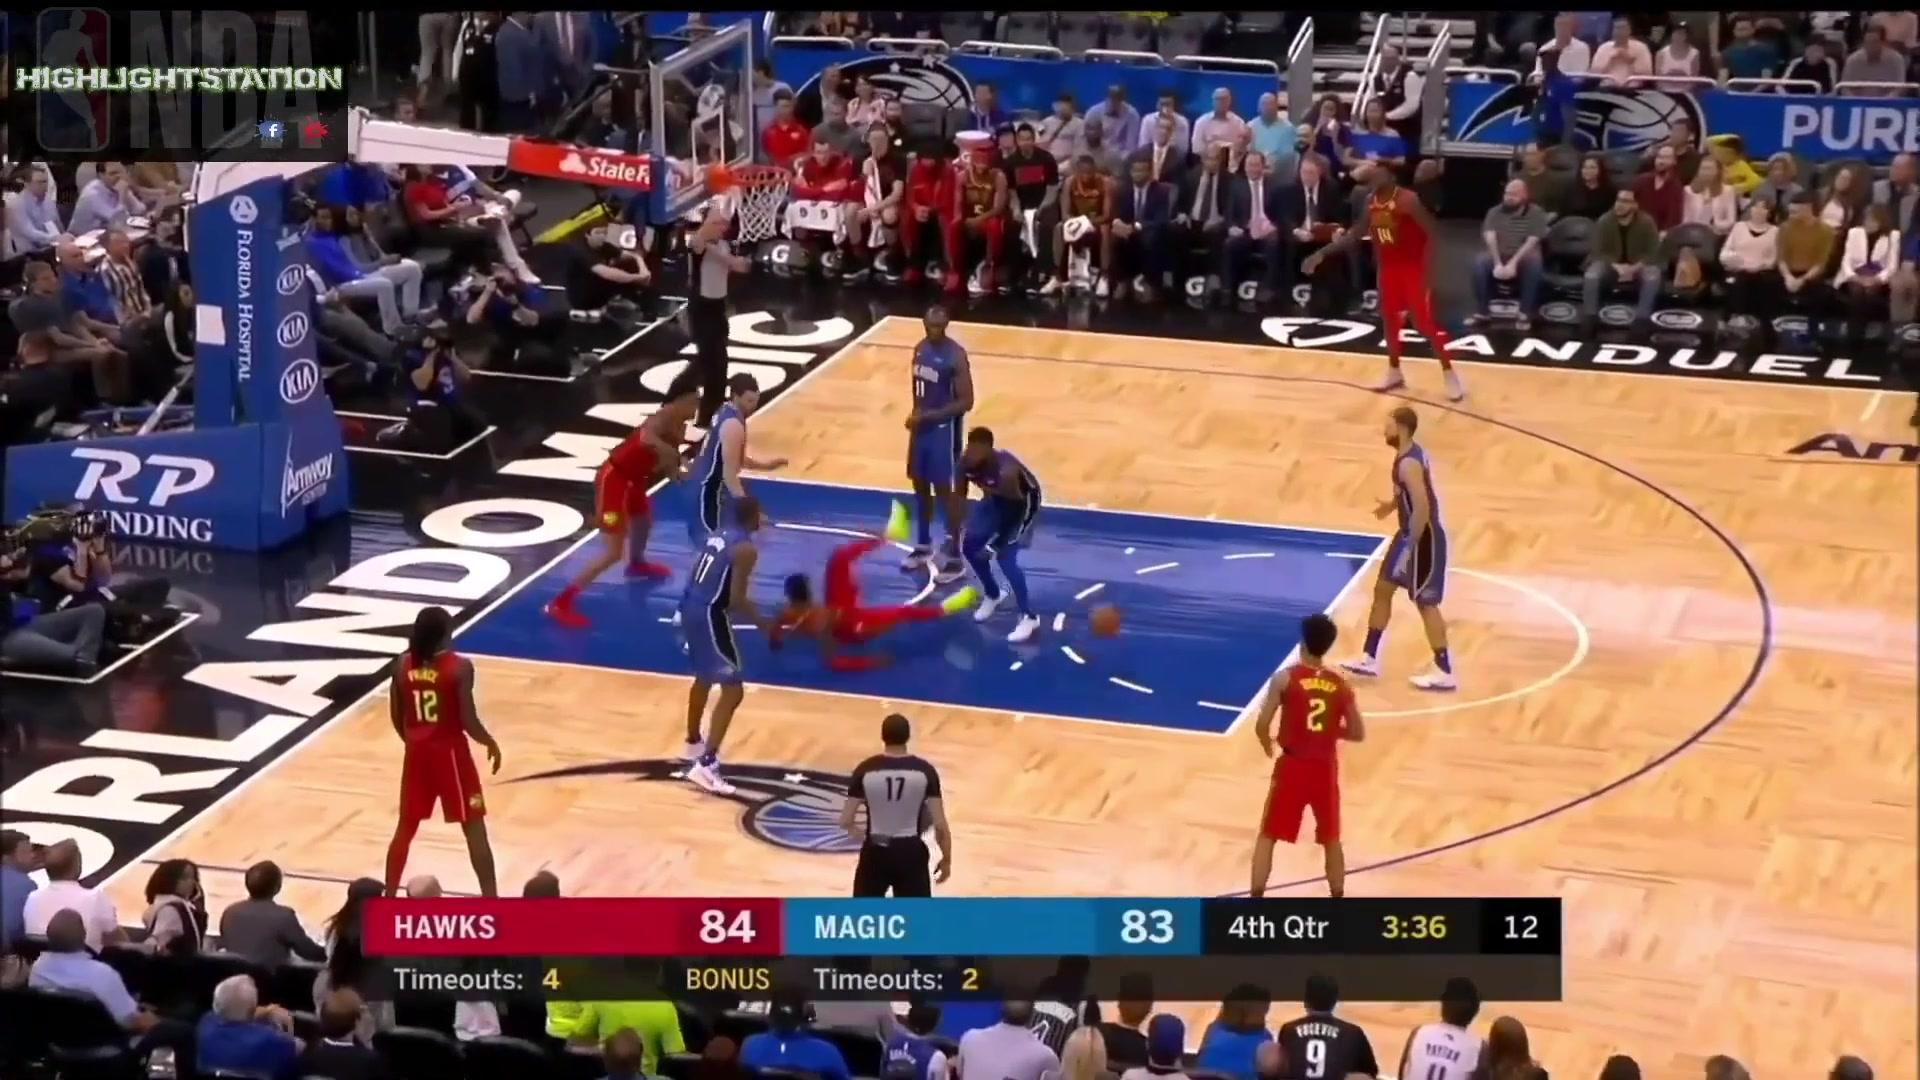no_foul: (545, 368, 769, 637)
